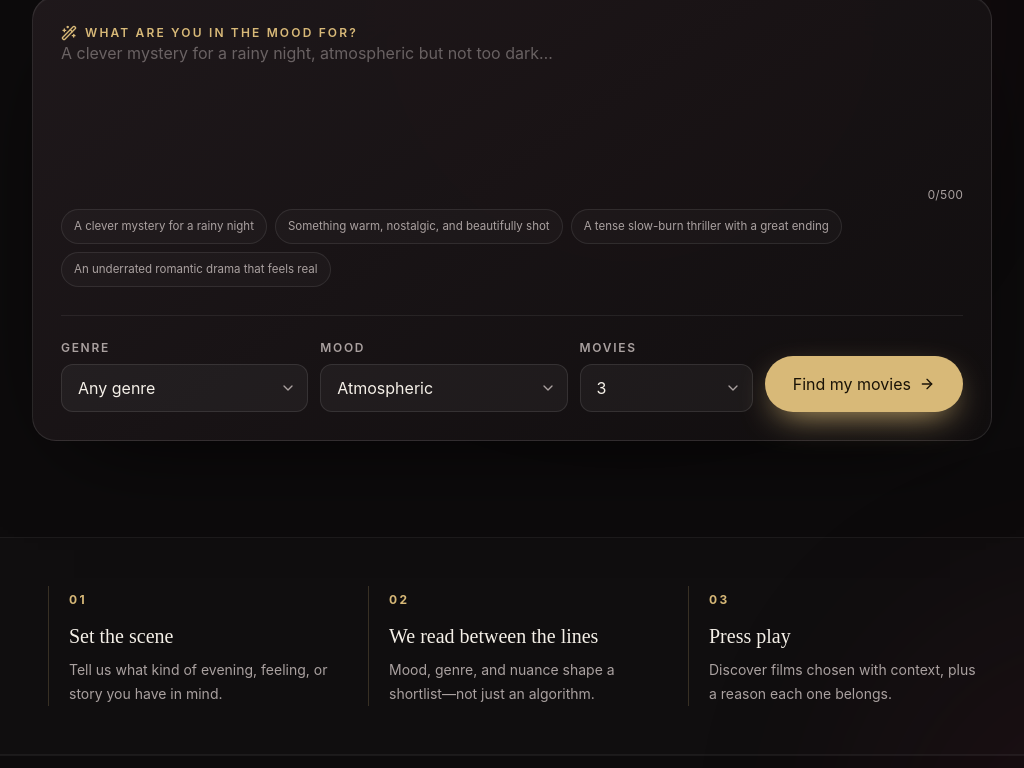
Test: movie concierge › validates the prompt before sending a request
(page scrolled)
Click the button "Find my movies". click: (864, 384)
box: [765, 356, 963, 412]
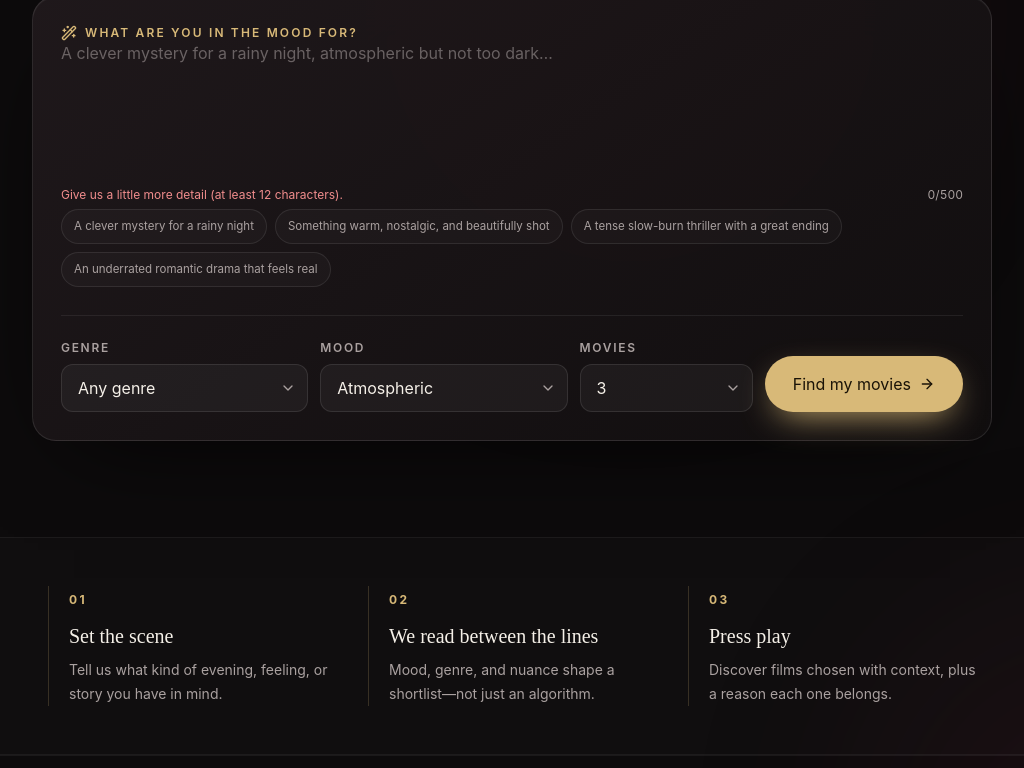
Check: the message shows "at least 12 characters", box [61, 187, 343, 202]
